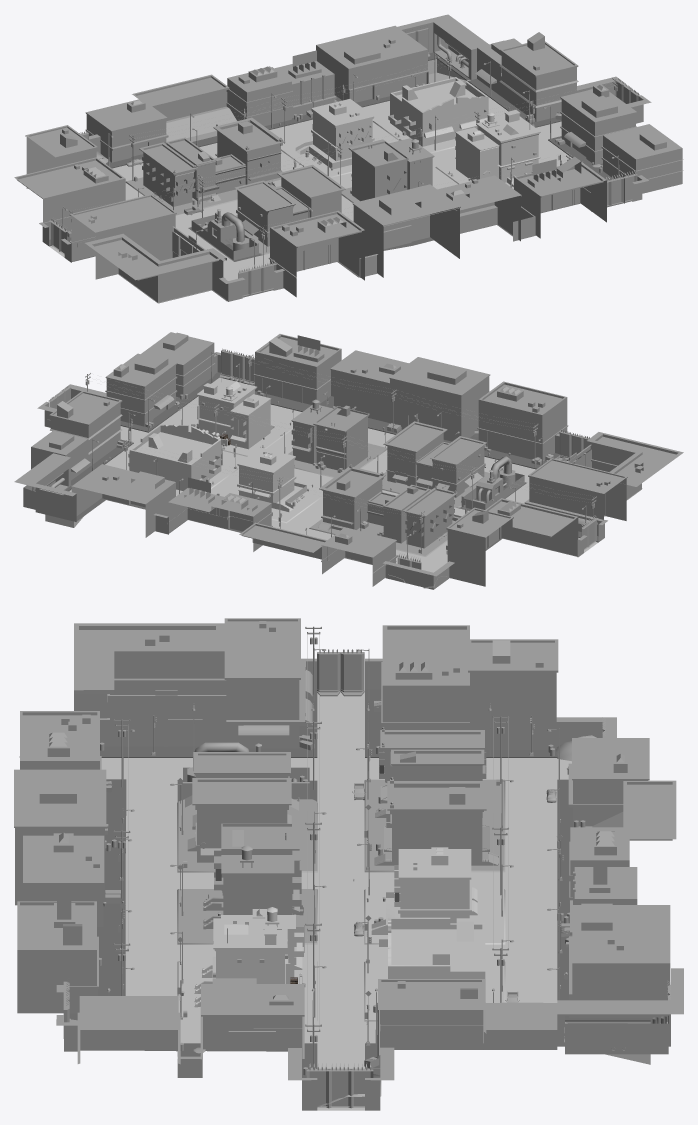
The model's file is tmnt_level002.fbx.
The picture shows the model from 3 angles, top to bottom: view 1: azimuth 30°, elevation 25°; view 2: azimuth 150°, elevation 25°; view 3: azimuth 270°, elevation 25°; orthographic projection. The views are drawn at different scales.
Parts seen in each view (by area): view 1: TMNT_Building, TMNT_Road, TMNT_Road_closed_blockade, TMNT_Road_closed_blockade_16, TMNT_Machine, TMNT_Lamp_Post, TMNT_Light_Pole; view 2: TMNT_Building, TMNT_Road, TMNT_Road_closed_blockade_16, TMNT_Road_closed_blockade, TMNT_Machine, TMNT_Road_closed_blockade_17, TMNT_Lamp_Post, TMNT_Light_Pole; view 3: TMNT_Building, TMNT_Road, TMNT_Road_closed_blockade_16, TMNT_Road_closed_blockade, TMNT_Lamp_Post, TMNT_Light_Pole, TMNT_Machine, TMNT_Signle, TMNT_Road_closed_blockade_17, TMNT_Road_closed_blockade_18, TMNT_Road_closed_blockade_19.
Part boxes in pixels (x1=…): TMNT_Building: x1=14, y1=25, x2=683, y2=303; TMNT_Road: x1=49, y1=52, x2=632, y2=302; TMNT_Road_closed_blockade: x1=49, y1=26, x2=640, y2=296; TMNT_Road_closed_blockade_16: x1=397, y1=14, x2=488, y2=79; TMNT_Machine: x1=191, y1=209, x2=258, y2=260; TMNT_Lamp_Post: x1=62, y1=53, x2=619, y2=267; TMNT_Light_Pole: x1=69, y1=57, x2=618, y2=266; TMNT_Building: x1=31, y1=332, x2=683, y2=586; TMNT_Road: x1=45, y1=372, x2=642, y2=572; TMNT_Road_closed_blockade_16: x1=14, y1=453, x2=76, y2=521; TMNT_Road_closed_blockade: x1=39, y1=348, x2=598, y2=569; TMNT_Machine: x1=461, y1=456, x2=524, y2=509; TMNT_Road_closed_blockade_17: x1=383, y1=561, x2=454, y2=589; TMNT_Lamp_Post: x1=92, y1=352, x2=586, y2=558; TMNT_Light_Pole: x1=85, y1=354, x2=596, y2=553; TMNT_Building: x1=14, y1=618, x2=676, y2=1064; TMNT_Road: x1=69, y1=689, x2=667, y2=1110; TMNT_Road_closed_blockade_16: x1=557, y1=968, x2=683, y2=1054; TMNT_Road_closed_blockade: x1=63, y1=649, x2=670, y2=1108; TMNT_Lamp_Post: x1=107, y1=648, x2=559, y2=1044; TMNT_Light_Pole: x1=113, y1=626, x2=508, y2=1068; TMNT_Machine: x1=183, y1=742, x2=309, y2=799; TMNT_Signle: x1=118, y1=715, x2=564, y2=1045; TMNT_Road_closed_blockade_17: x1=556, y1=717, x2=616, y2=746; TMNT_Road_closed_blockade_18: x1=365, y1=1047, x2=394, y2=1110; TMNT_Road_closed_blockade_19: x1=288, y1=1048, x2=317, y2=1110.
Size of the model in its own units: 82.83 by 10.27 by 54.51.
